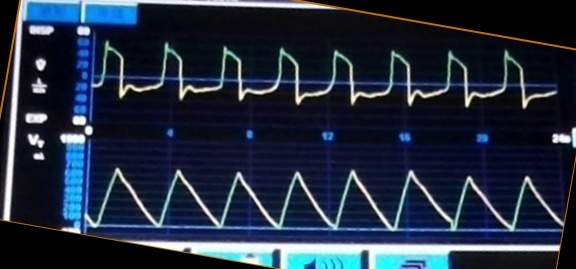Premature_cycling Flow: (97, 38, 557, 112)
Premature_cycling Volume: (90, 157, 557, 236)
